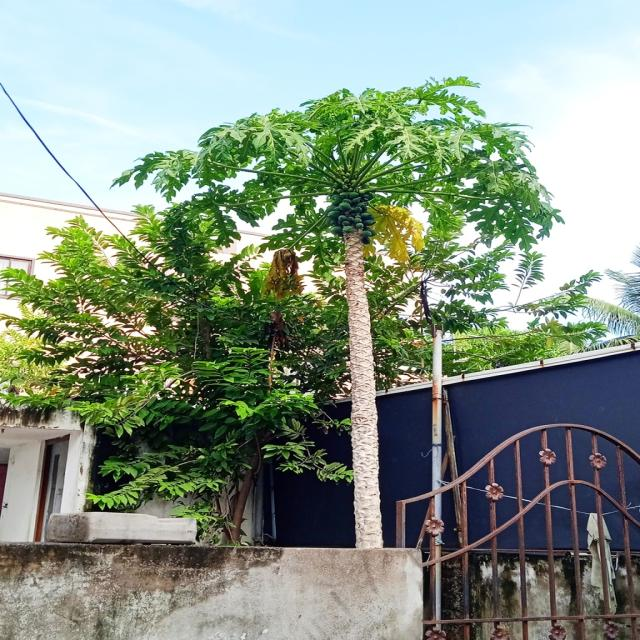Papaya-Tree: (151, 74, 567, 531)
